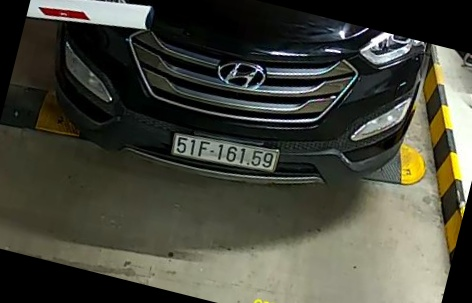plate: (172, 128, 281, 180)
